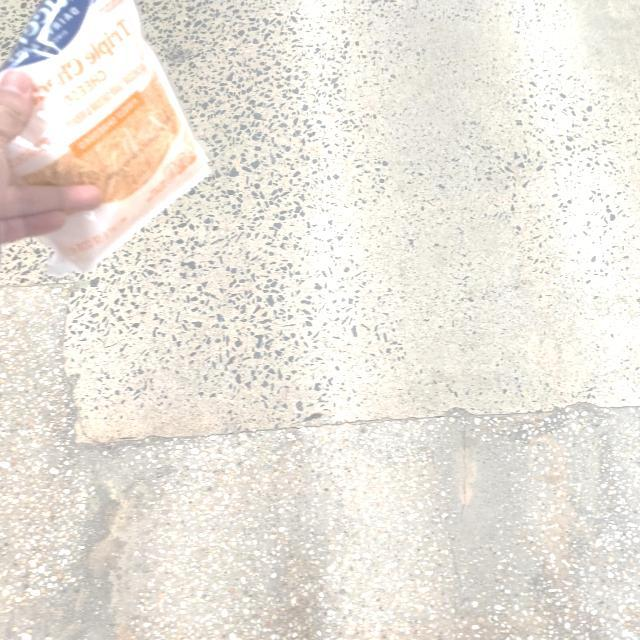cheese: (0, 0, 214, 266)
